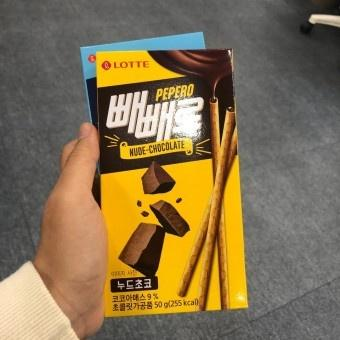snack: (97, 46, 251, 318)
